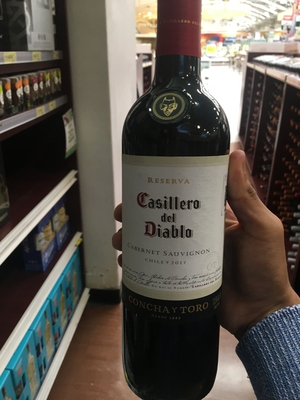casillero del diablo cabernet sauvignon: (117, 7, 230, 396)
